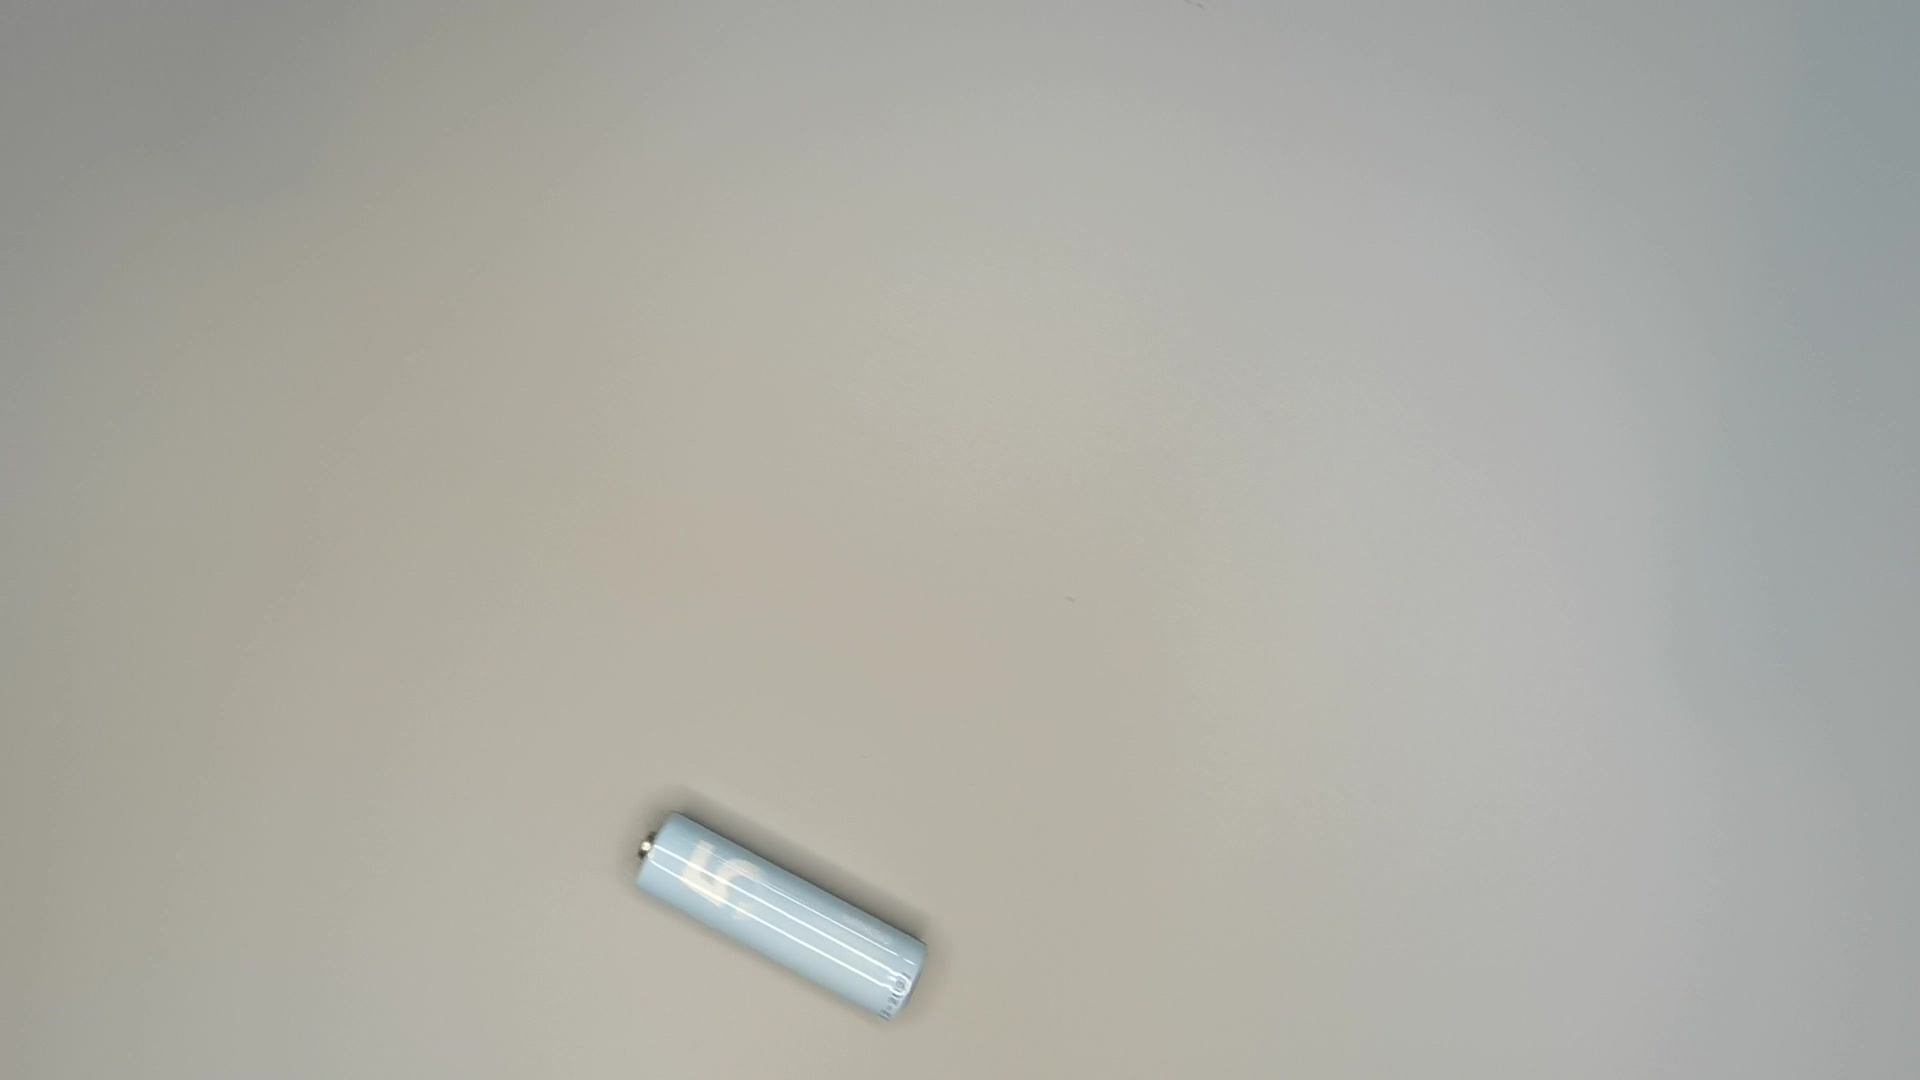battery: (630, 808, 930, 1026)
